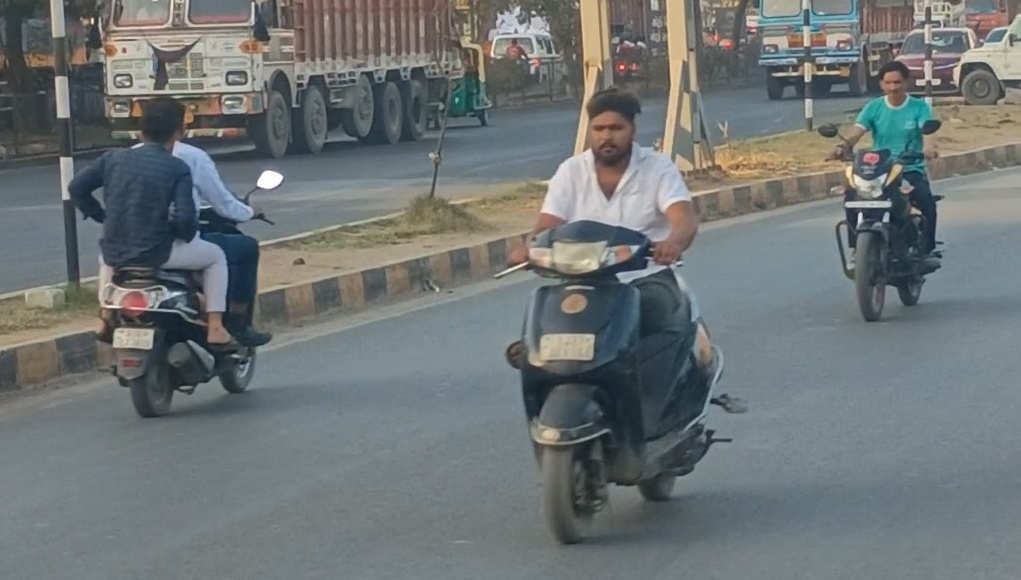BikeWithRider: (487, 80, 755, 551), (61, 91, 291, 423), (808, 54, 954, 327), (607, 18, 652, 88)
NoHelmet: (575, 82, 648, 168), (131, 93, 194, 154), (871, 56, 917, 104)
